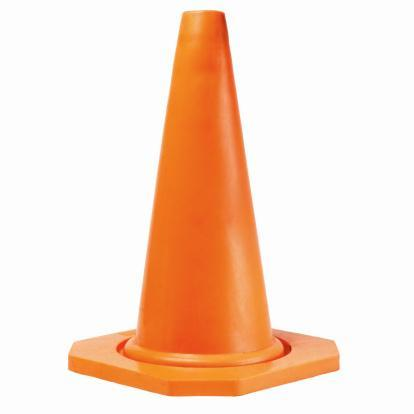Cone: (64, 9, 359, 397)
